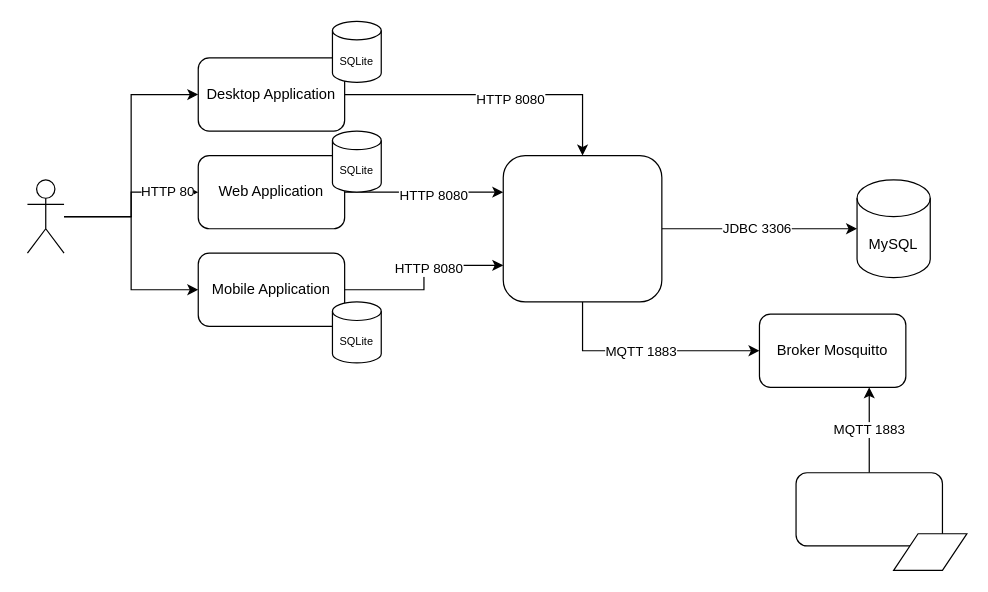
The diagram is 988 pixels wide and 592 high, and some of its shapes have lost their labels. Here are the shapes that lost their labels. From the top down, the box of each, then its label:
(26, 179, 64, 253): Usuário
(502, 154, 662, 302): Backend Kotlin + Springboot
(795, 472, 942, 546): Dispositivo IoT
(892, 533, 967, 570): Sensor
